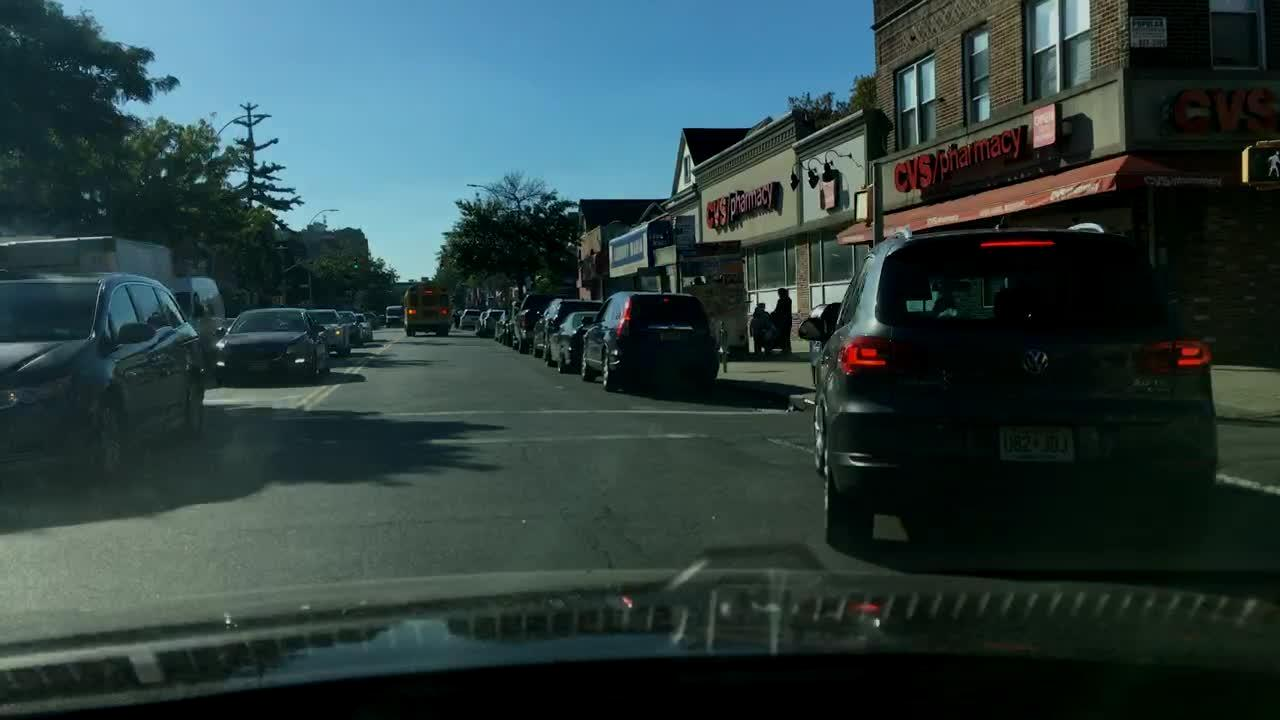Volkswagen: (1018, 348, 1054, 376)
